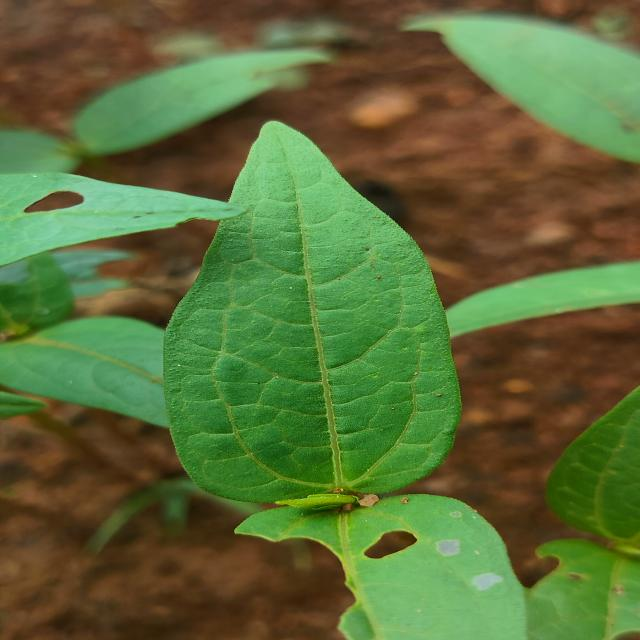Black gram_healthy: (162, 120, 465, 508)
